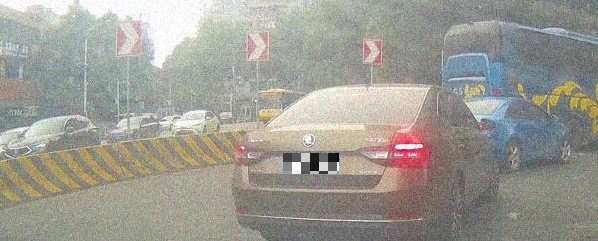L_light: (235, 143, 262, 165)
R_light: (392, 139, 426, 164)
T_light: (360, 89, 381, 94)
day-right: (231, 85, 431, 241)
plate_1: (283, 153, 339, 174)
